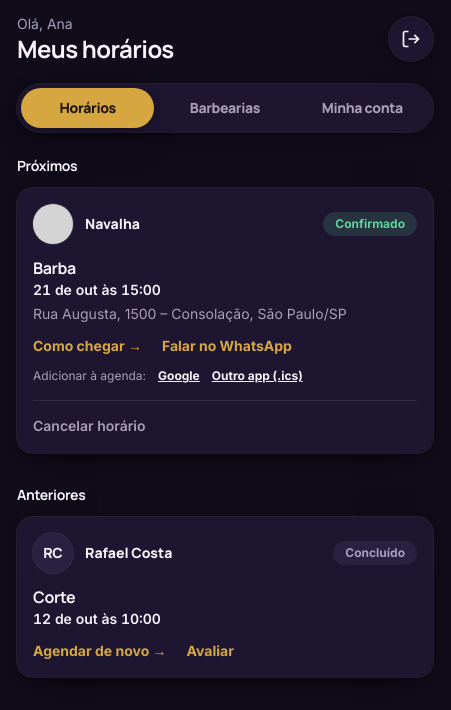
Test: client area 2.0 › explains when it is too late to cancel from the app
The width and height of the screenshot is (451, 710).
Expected: the heading "Barba" is shown, [33,257,76,279]
Step 1. Click the button "Cancelar horário" → (89, 426), box [33,416,146,436]
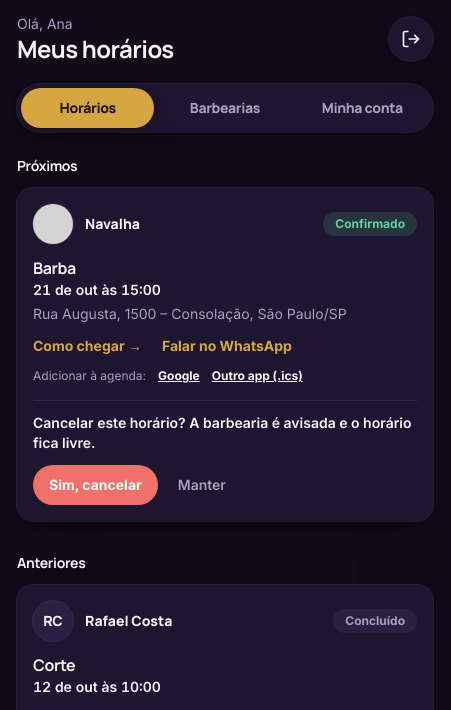
Step 2. Click the button "Sim, cancelar" → (95, 485), box [33,465,158,505]
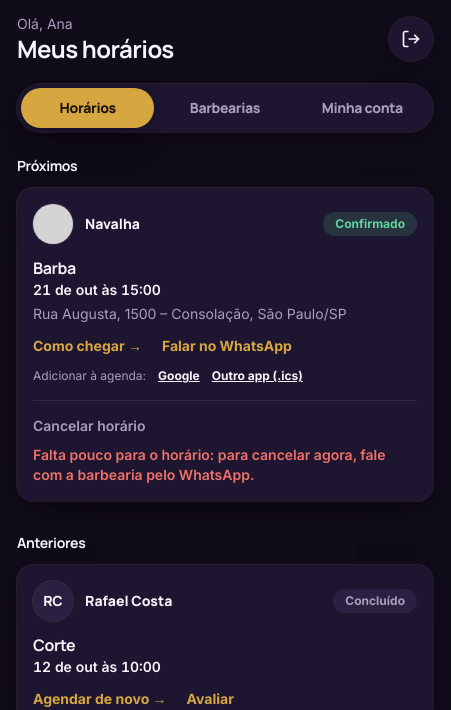
Expected: the message shows "fale com a barbearia pelo WhatsApp", [33,446,386,483]
